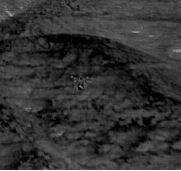Target: (69, 74, 89, 91)
